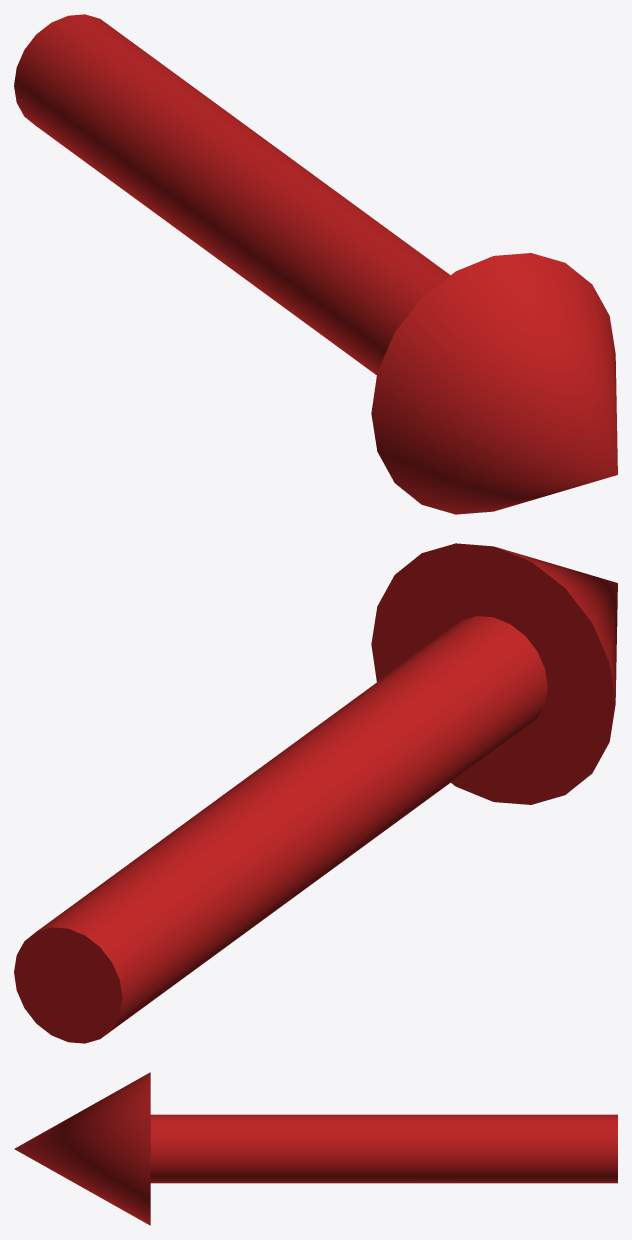
File: arrow.fbx
3 views of the same model, one above another, from view 1: azimuth 30°, elevation 25°; view 2: azimuth 150°, elevation 25°; view 3: azimuth 270°, elevation 25° (orthographic). The views are drawn at different scales.
Visible parts, largest first — view 1: pCylinder1; view 2: pCylinder1; view 3: pCylinder1.
Part boxes in pixels (x1,y1,x2,y2): pCylinder1: (14, 14, 617, 514); pCylinder1: (14, 543, 617, 1043); pCylinder1: (14, 1072, 617, 1225).
Bounding box in the file's own units: 0.9887 × 0.9887 × 3.85.
